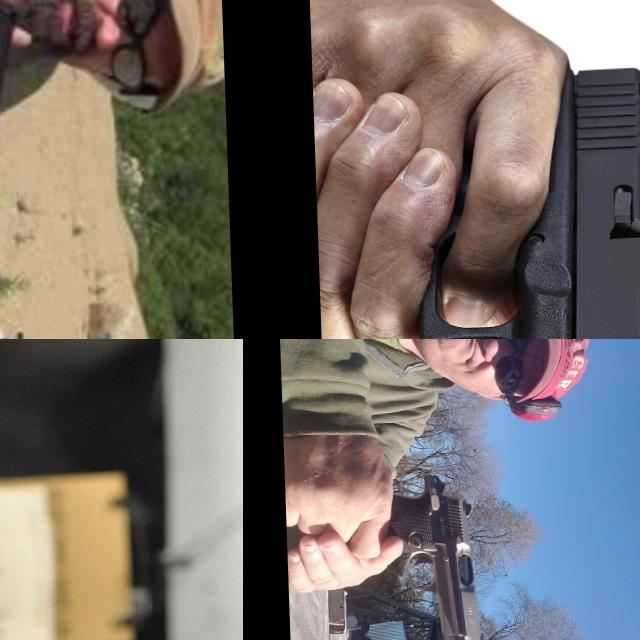handgun: (405, 57, 640, 339), (381, 467, 487, 640), (0, 0, 59, 202), (65, 339, 117, 369)
